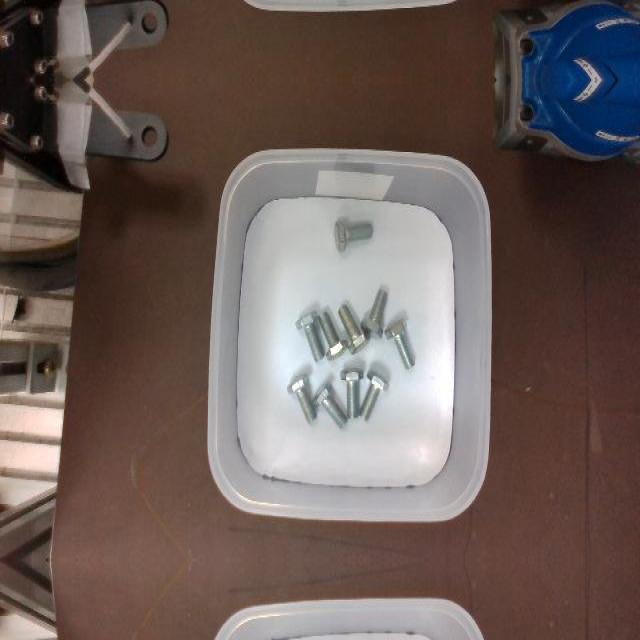screw: (311, 379, 347, 429), (358, 368, 389, 420), (338, 303, 369, 353), (286, 372, 317, 422), (295, 309, 324, 361), (317, 310, 347, 360), (384, 317, 414, 367), (361, 288, 388, 338), (334, 219, 373, 251), (341, 366, 364, 418)
